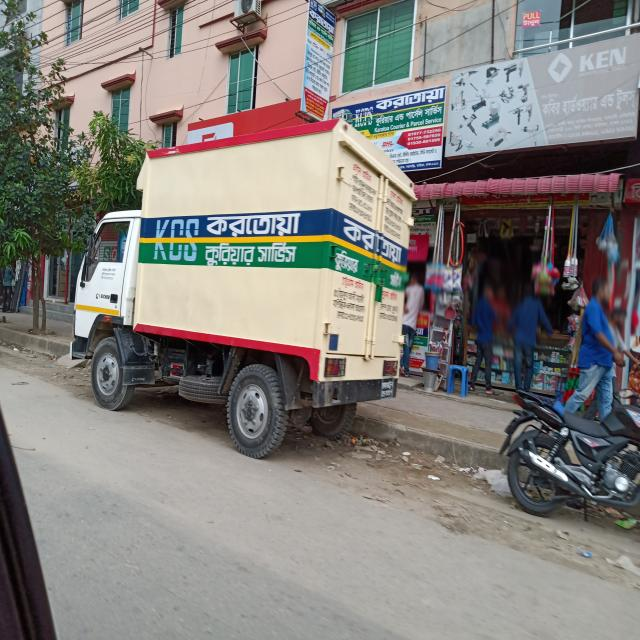motorbike: (493, 357, 640, 546)
pickup-van: (67, 117, 417, 473)
